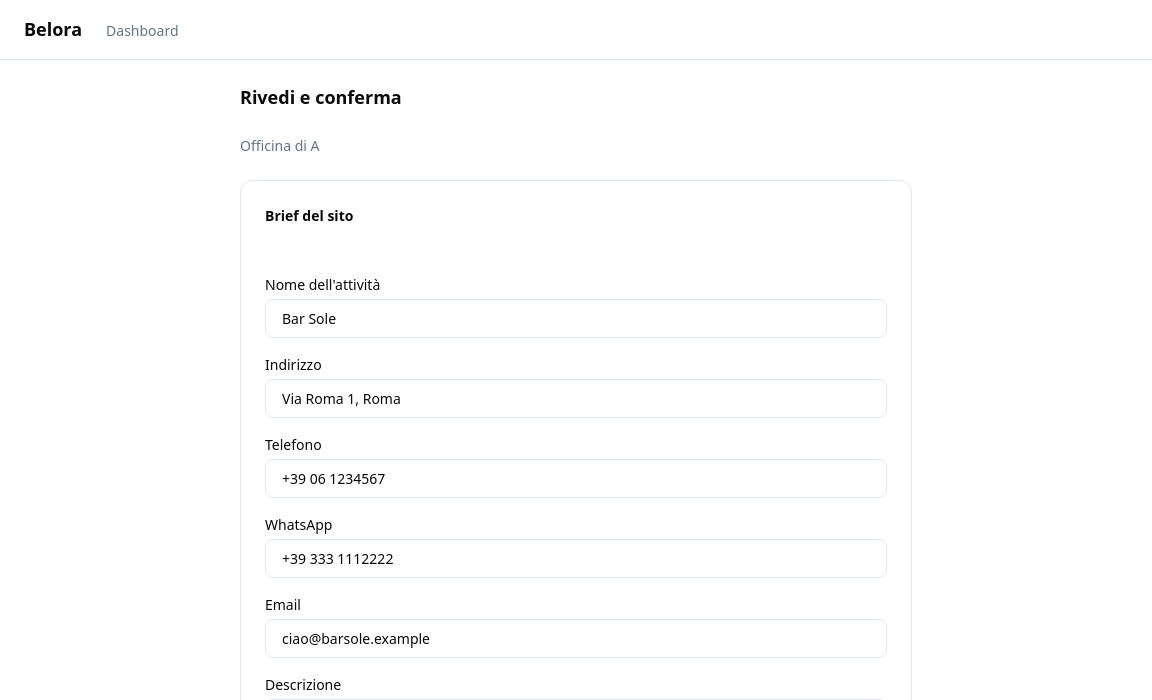
Test case: T-152 conferma ESPLICITA (AC-152-2) › prima dell attivazione della conferma esplicita confirmBrief NON e invocata
Replace the text in the field labelled "Nome dell'attività" with "Bar Sole Bis" at (576, 318), box [265, 299, 887, 338]
(page scrolled)
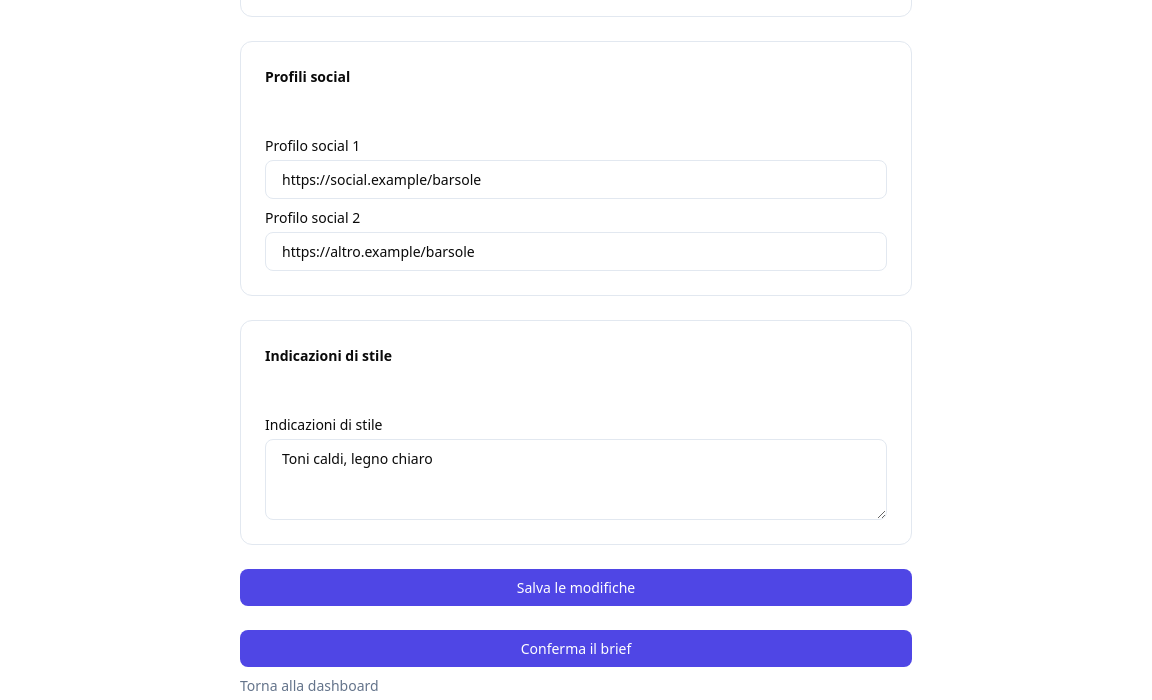
Salvare NON conferma: sono due azioni distinte.
Click the button "Salva le modifiche" at (576, 588), box [240, 569, 912, 606]
(page scrolled)
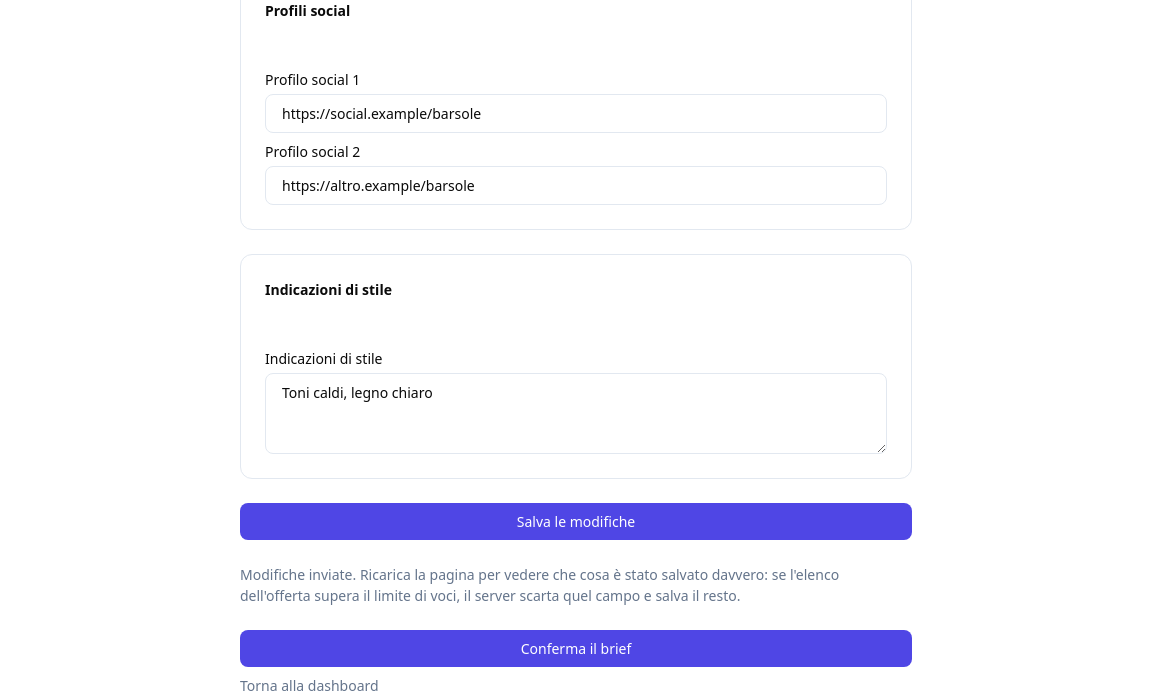
Click the button "Conferma il brief" at (576, 648), box [240, 630, 912, 667]
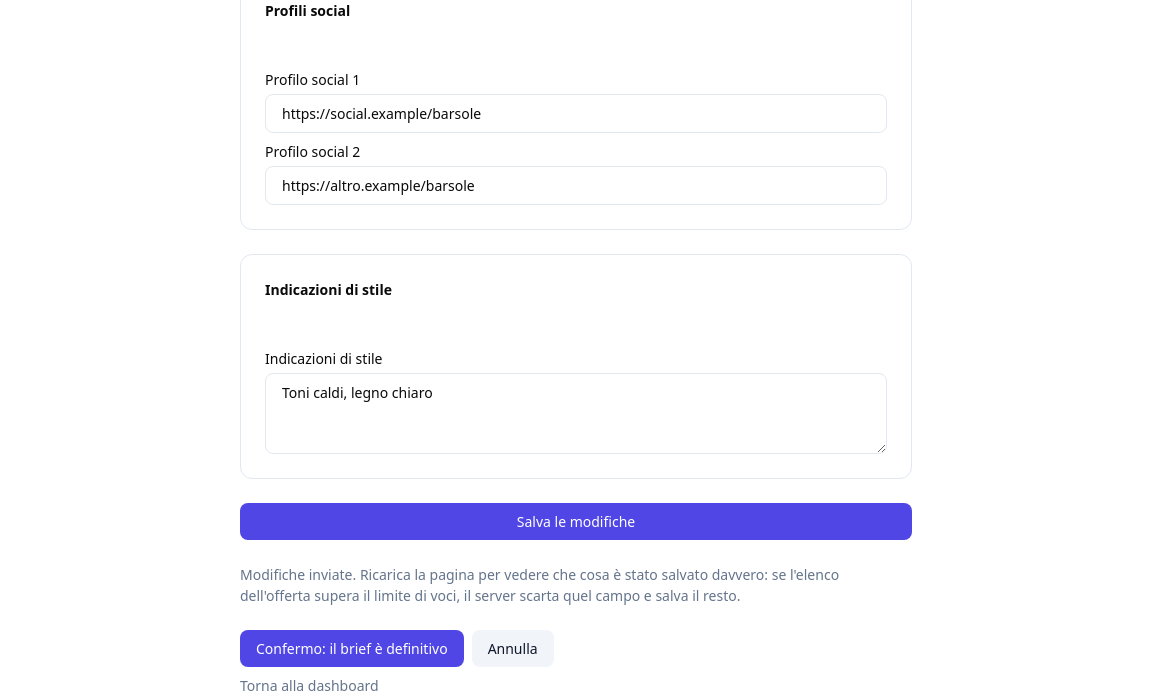
Expected: the button "Confermo: il brief è definitivo" is shown, [240, 630, 464, 667]
E si puo' tornare indietro senza confermare.
Click the button "Annulla" at (513, 648), box [472, 630, 554, 667]
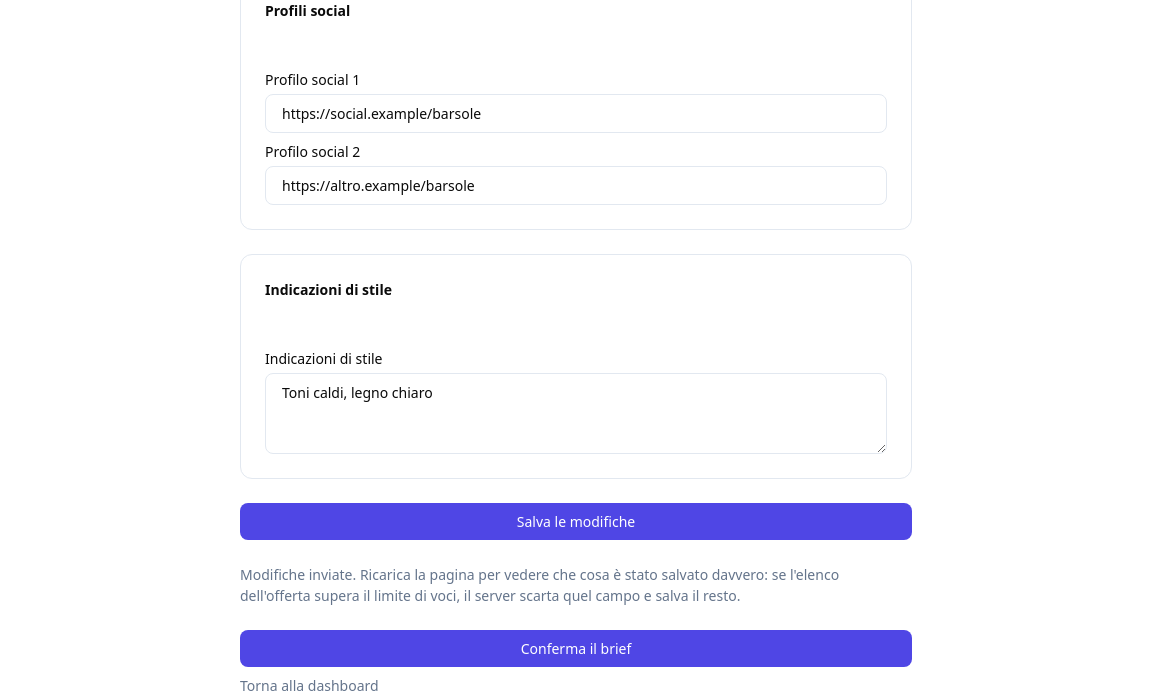
Expected: the button "Confermo: il brief è definitivo" is gone
